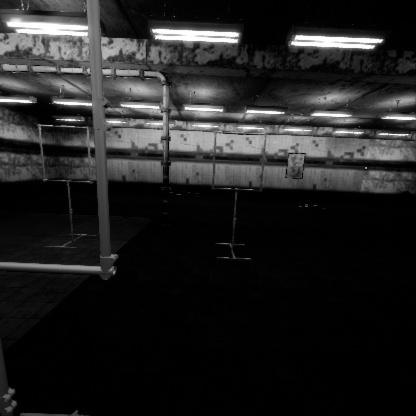gate: (212, 223, 271, 285), (38, 232, 96, 291)
